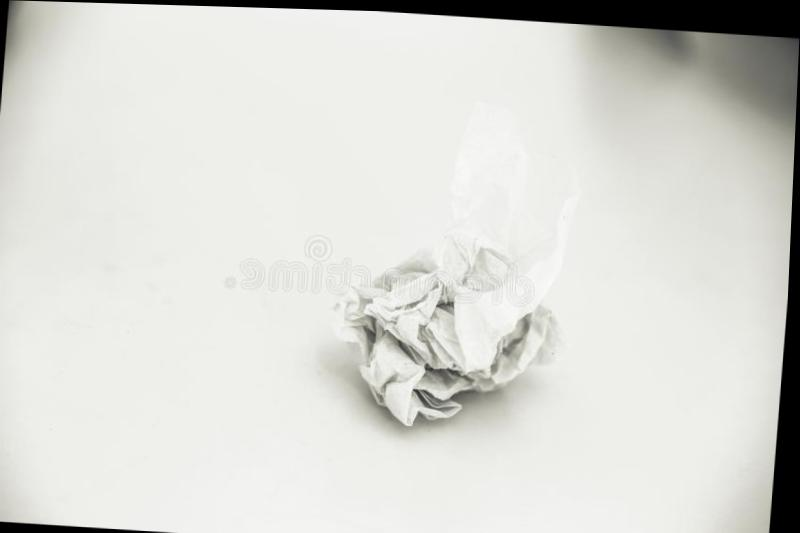paper: (329, 201, 570, 426)
